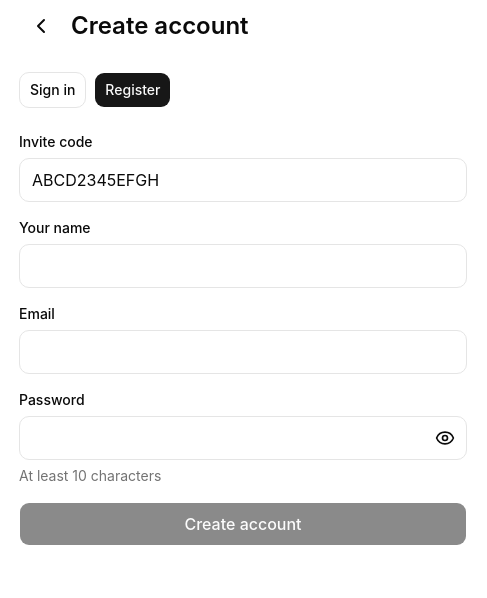
Test case: register (S-02) › prefills the invite code from the link and reports an expired invite
Check: the field labelled "Invite code" holds "ABCD2345EFGH", box top-left (19, 158), bottom-right (467, 202)
Type "Anna" into the field labelled "Your name" at (243, 266), box top-left (19, 244), bottom-right (467, 288)
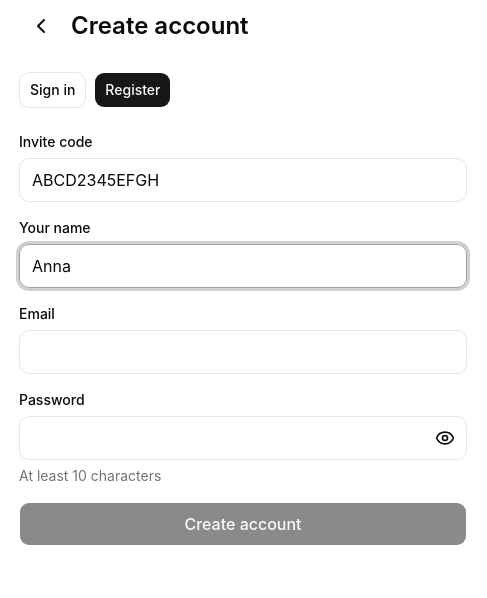
Type "anna@example.com" into the field labelled "Email" at (243, 352), box top-left (19, 330), bottom-right (467, 374)
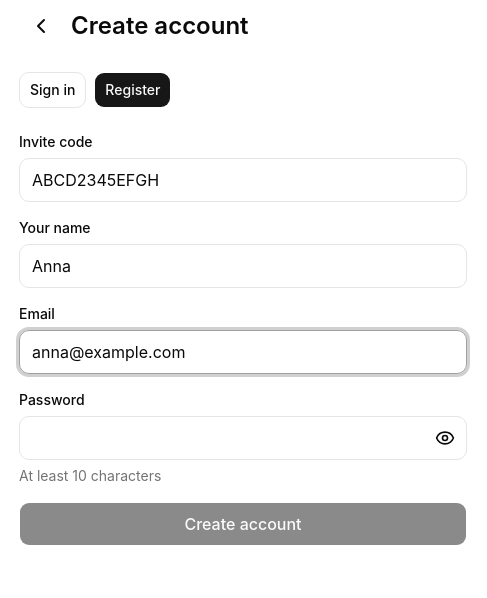
Type "short" into the password field labelled "Password" at (243, 438), box top-left (19, 416), bottom-right (467, 460)
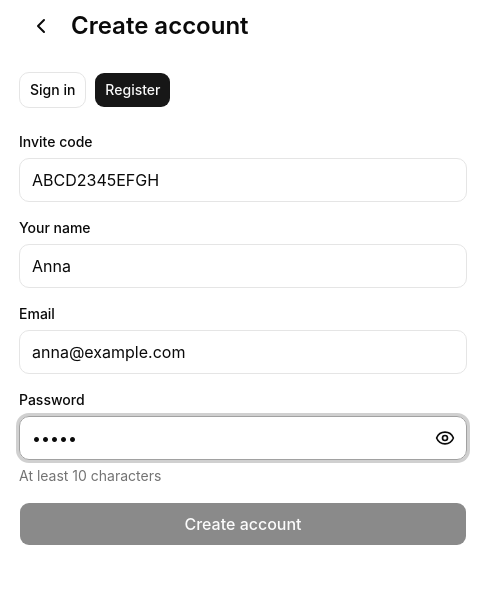
Check: the text "At least 10 characters" is shown, box top-left (19, 467), bottom-right (161, 484)
Check: the button "Create account" is disabled, box top-left (19, 502), bottom-right (467, 546)
Type " but long" into the password field labelled "Password" at (243, 438), box top-left (19, 416), bottom-right (467, 460)
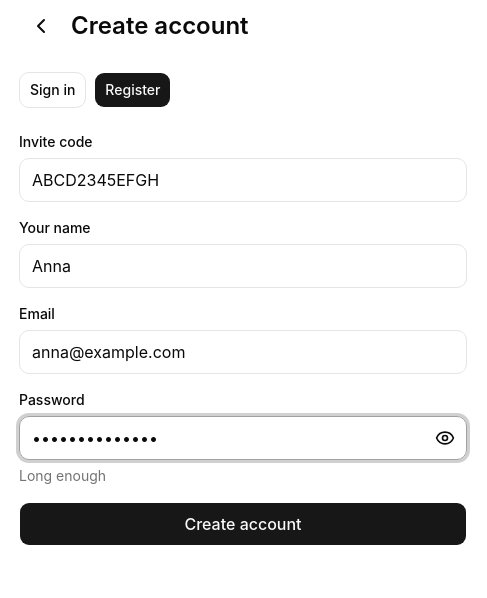
Click the button "Create account" at (243, 524), box top-left (19, 502), bottom-right (467, 546)
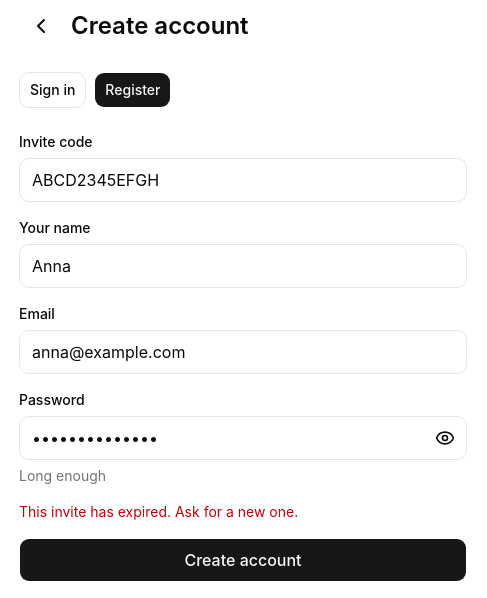
Check: the message reads "This invite has expired. Ask for a new one.", box top-left (19, 503), bottom-right (298, 520)
